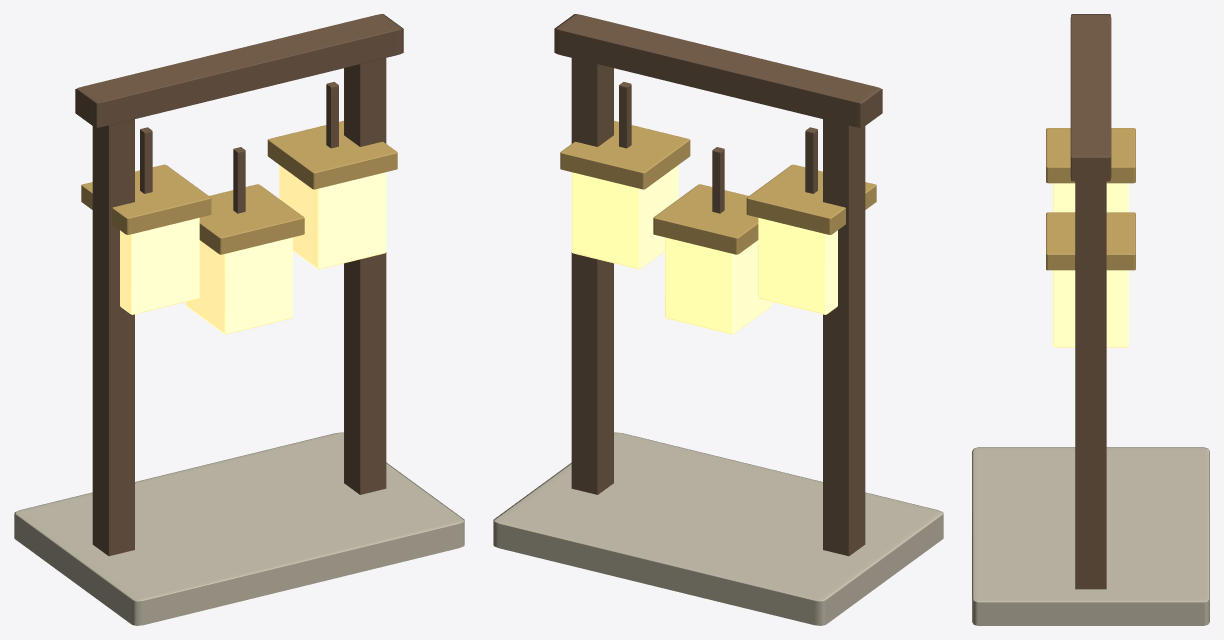
Rendered from winterlantern-3.glb.
3 views of the same model, side by side, from view 1: azimuth 30°, elevation 25°; view 2: azimuth 150°, elevation 25°; view 3: azimuth 270°, elevation 25° (orthographic). The views are drawn at different scales.
Parts seen in each view (by area): view 1: winterlantern-3-0; view 2: winterlantern-3-0; view 3: winterlantern-3-0.
Part boxes in pixels (x1,y1,x2,y2): winterlantern-3-0: (14, 14, 464, 625); winterlantern-3-0: (493, 14, 943, 625); winterlantern-3-0: (972, 14, 1209, 625).
Size of the model in its own units: 0.82 by 1.14 by 0.53.
